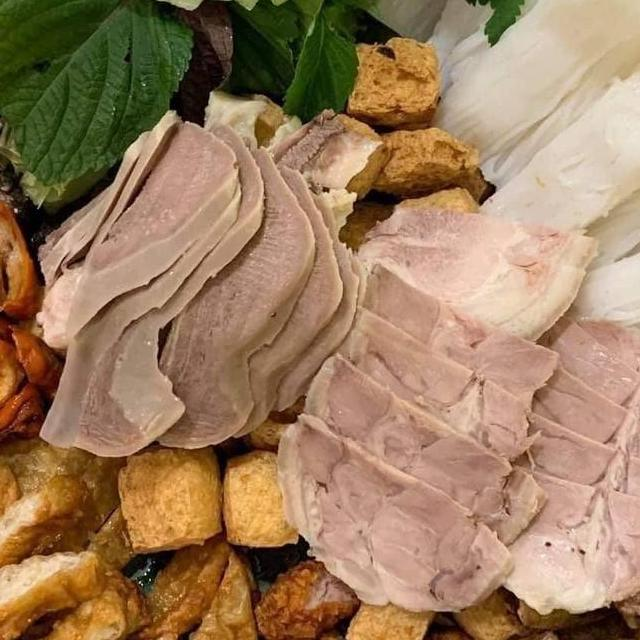bun: (338, 0, 640, 415)
bun dau: (0, 0, 640, 640)
cha com: (0, 403, 185, 640), (158, 554, 490, 640), (127, 529, 282, 640)
dau hu: (319, 85, 502, 226), (101, 426, 232, 566), (331, 15, 456, 140), (196, 424, 310, 560), (335, 571, 437, 640)
thit heo: (258, 175, 620, 622), (21, 84, 368, 476), (469, 291, 640, 626)
